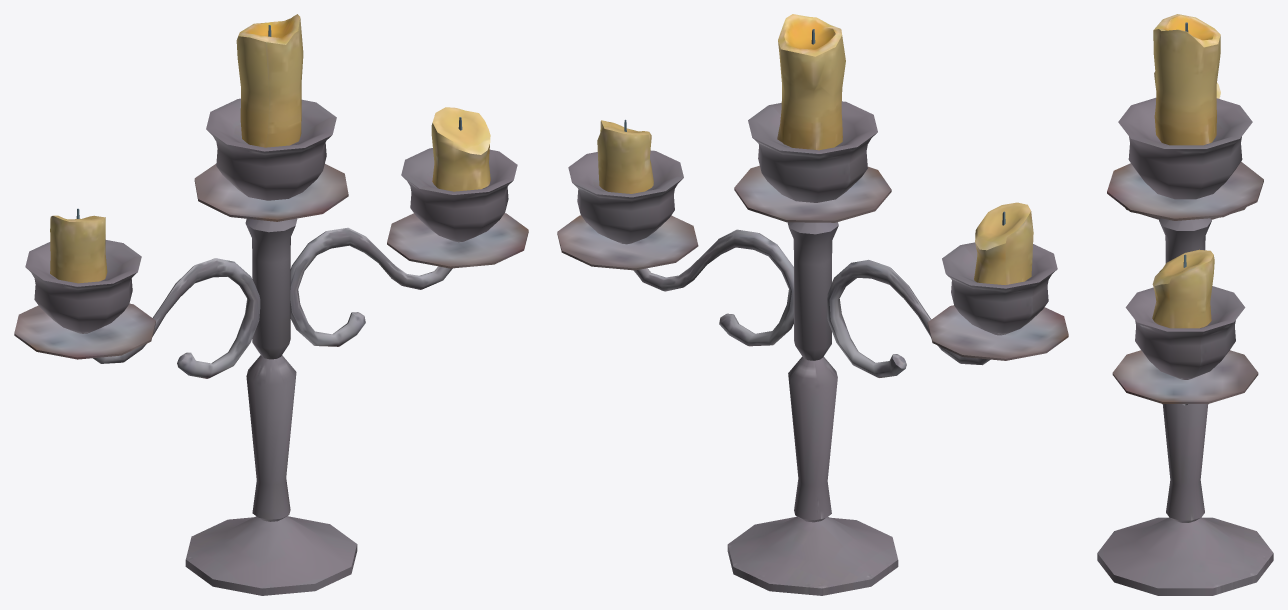
Rendered from CandleStick_Triple.gltf.
The picture shows the model from 3 angles, left to right: view 1: azimuth 30°, elevation 25°; view 2: azimuth 150°, elevation 25°; view 3: azimuth 270°, elevation 25°; orthographic projection.
Parts seen in each view (by area): view 1: CandleStick_Triple; view 2: CandleStick_Triple; view 3: CandleStick_Triple.
Boxes of the visible parts, box(x1,y1,x2,y2) form: CandleStick_Triple: box(14, 14, 528, 595); CandleStick_Triple: box(557, 14, 1068, 595); CandleStick_Triple: box(1097, 14, 1273, 595).
Bounding box in the file's own units: 0.4423 × 0.4633 × 0.1364.
Materials: 2 (2 with a texture image).
